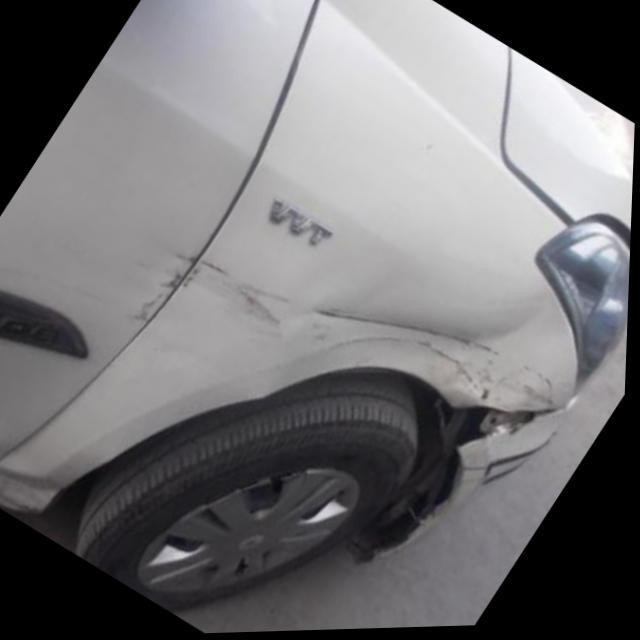dislocated part: (456, 410, 561, 451)
scratch: (128, 248, 554, 411), (0, 462, 65, 518)
